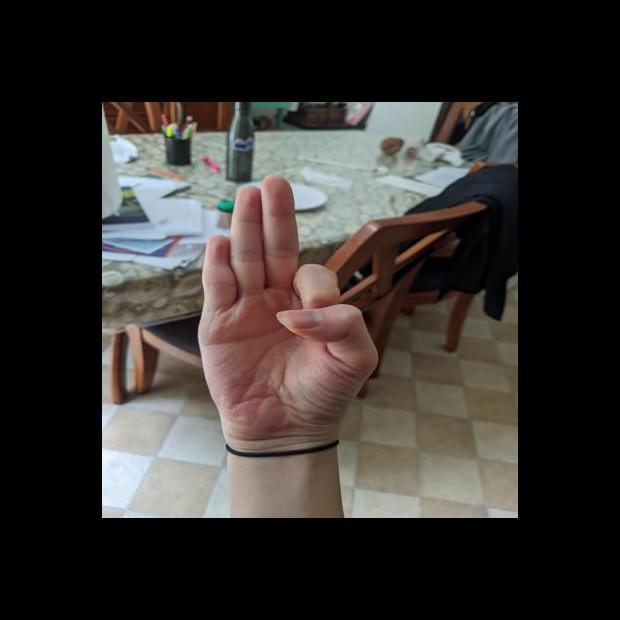E: (194, 172, 385, 447)
